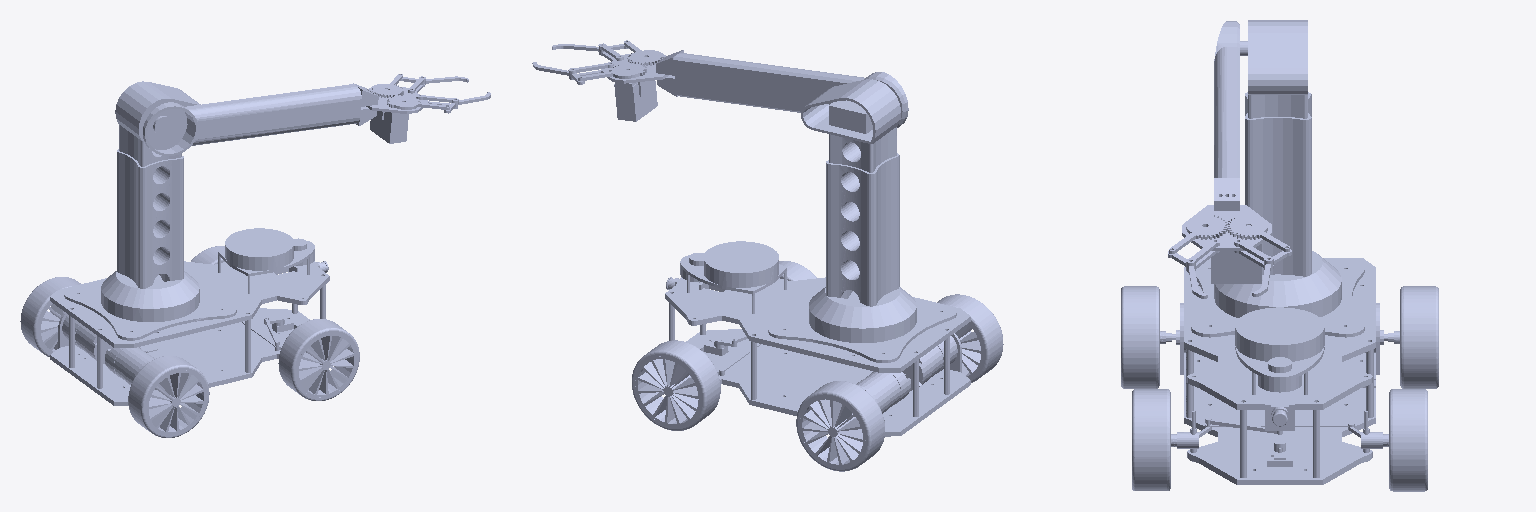
The robot description file, URDF, robot "robot_ros_gk":
<?xml version="1.0" encoding="utf-8"?>
<!-- This URDF was automatically created by SolidWorks to URDF Exporter! Originally created by [author] ([email redacted]) 
     Commit Version: 1.6.0-4-g7f85cfe  Build Version: 1.6.7995.38578
     For more information, please see http://wiki.ros.org/sw_urdf_exporter -->
<robot
  name="robot_ros_gk">
  <link
    name="base_link">
    <inertial>
      <origin
        xyz="-0.0227970405907787 -3.02623057399989E-05 0.0259881435598489"
        rpy="0 0 0" />
      <mass
        value="0.527327964410731" />
      <inertia
        ixx="0.000640688576324311"
        ixy="-4.60231415528497E-08"
        ixz="-1.60591832275139E-07"
        iyy="0.00200912911881809"
        iyz="7.77293736242602E-11"
        izz="0.00261331056586891" />
    </inertial>
    <visual>
      <origin
        xyz="0 0 0"
        rpy="0 0 0" />
      <geometry>
        <mesh
          filename="package://robot_ros_gk/meshes/base_link.STL" />
      </geometry>
      <material
        name="">
        <color
          rgba="0.792156862745098 0.819607843137255 0.933333333333333 1" />
      </material>
    </visual>
    <collision>
      <origin
        xyz="0 0 0"
        rpy="0 0 0" />
      <geometry>
        <mesh
          filename="package://robot_ros_gk/meshes/base_link.STL" />
      </geometry>
    </collision>
  </link>
  <link
    name="banhtraisau_link">
    <inertial>
      <origin
        xyz="1.38777878078145E-17 1.38777878078145E-17 0.0150833895939276"
        rpy="0 0 0" />
      <mass
        value="0.0734919260346546" />
      <inertia
        ixx="4.45273895329904E-05"
        ixy="5.76639827095674E-21"
        ixz="1.61121036314707E-20"
        iyy="4.45273895329904E-05"
        iyz="3.43059938073875E-21"
        izz="7.80097515170451E-05" />
    </inertial>
    <visual>
      <origin
        xyz="0 0 0"
        rpy="0 0 0" />
      <geometry>
        <mesh
          filename="package://robot_ros_gk/meshes/banhtraisau_link.STL" />
      </geometry>
      <material
        name="">
        <color
          rgba="0.792156862745098 0.819607843137255 0.933333333333333 1" />
      </material>
    </visual>
    <collision>
      <origin
        xyz="0 0 0"
        rpy="0 0 0" />
      <geometry>
        <mesh
          filename="package://robot_ros_gk/meshes/banhtraisau_link.STL" />
      </geometry>
    </collision>
  </link>
  <joint
    name="banhtraisau_link_joint"
    type="continuous">
    <origin
      xyz="-0.08596 0.1241 0.014318"
      rpy="1.5708 0 0" />
    <parent
      link="base_link" />
    <child
      link="banhtraisau_link" />
    <axis
      xyz="0 0 1" />
  </joint>
  <link
    name="banhphaisau_link">
    <inertial>
      <origin
        xyz="1.38777878078145E-17 -1.38777878078145E-17 -0.0150833895939276"
        rpy="0 0 0" />
      <mass
        value="0.0734919260346546" />
      <inertia
        ixx="4.45273895329903E-05"
        ixy="-1.33362734134229E-20"
        ixz="1.04212162915766E-20"
        iyy="4.45273895329904E-05"
        iyz="-7.11013338701993E-22"
        izz="7.8009751517045E-05" />
    </inertial>
    <visual>
      <origin
        xyz="0 0 0"
        rpy="0 0 0" />
      <geometry>
        <mesh
          filename="package://robot_ros_gk/meshes/banhphaisau_link.STL" />
      </geometry>
      <material
        name="">
        <color
          rgba="0.792156862745098 0.819607843137255 0.933333333333333 1" />
      </material>
    </visual>
    <collision>
      <origin
        xyz="0 0 0"
        rpy="0 0 0" />
      <geometry>
        <mesh
          filename="package://robot_ros_gk/meshes/banhphaisau_link.STL" />
      </geometry>
    </collision>
  </link>
  <joint
    name="banhphaisau_link_joint"
    type="continuous">
    <origin
      xyz="-0.08596 -0.1241 0.014318"
      rpy="1.5708 0 0" />
    <parent
      link="base_link" />
    <child
      link="banhphaisau_link" />
    <axis
      xyz="0 0 1" />
  </joint>
  <link
    name="trutaymay_link">
    <inertial>
      <origin
        xyz="7.57972447307242E-09 5.14611103730189E-09 -0.0278680936480781"
        rpy="0 0 0" />
      <mass
        value="0.282569490408897" />
      <inertia
        ixx="0.000394975772567928"
        ixy="-1.63534932283893E-06"
        ixz="3.20993633314502E-11"
        iyy="0.000394975542110068"
        iyz="-3.81562874929635E-11"
        izz="0.000391214759288688" />
    </inertial>
    <visual>
      <origin
        xyz="0 0 0"
        rpy="0 0 0" />
      <geometry>
        <mesh
          filename="package://robot_ros_gk/meshes/trutaymay_link.STL" />
      </geometry>
      <material
        name="">
        <color
          rgba="0.792156862745098 0.819607843137255 0.933333333333333 1" />
      </material>
    </visual>
    <collision>
      <origin
        xyz="0 0 0"
        rpy="0 0 0" />
      <geometry>
        <mesh
          filename="package://robot_ros_gk/meshes/trutaymay_link.STL" />
      </geometry>
    </collision>
  </link>
  <joint
    name="trutaymay_link_joint"
    type="fixed">
    <origin
      xyz="-0.045427 -0.0015382 0.068"
      rpy="3.1416 0 0.7854" />
    <parent
      link="base_link" />
    <child
      link="trutaymay_link" />
    <axis
      xyz="0 0 0" />
    <limit
      lower="0"
      upper="0"
      effort="0"
      velocity="0" />
  </joint>
  <link
    name="khau1_link">
    <inertial>
      <origin
        xyz="0.00156774198874927 -0.000652656929735852 0.126358627057701"
        rpy="0 0 0" />
      <mass
        value="0.267175646223408" />
      <inertia
        ixx="0.000665818869133716"
        ixy="1.05801521895385E-06"
        ixz="-2.36689410975453E-05"
        iyy="0.00068559382971246"
        iyz="1.31058859642379E-05"
        izz="0.000111898705322211" />
    </inertial>
    <visual>
      <origin
        xyz="0 0 0"
        rpy="0 0 0" />
      <geometry>
        <mesh
          filename="package://robot_ros_gk/meshes/khau1_link.STL" />
      </geometry>
      <material
        name="">
        <color
          rgba="0.792156862745098 0.819607843137255 0.933333333333333 1" />
      </material>
    </visual>
    <collision>
      <origin
        xyz="0 0 0"
        rpy="0 0 0" />
      <geometry>
        <mesh
          filename="package://robot_ros_gk/meshes/khau1_link.STL" />
      </geometry>
    </collision>
  </link>
  <joint
    name="khau1_link_joint"
    type="prismatic">
    <origin
      xyz="0 0 -0.015"
      rpy="3.1416 0 0.7854" />
    <parent
      link="trutaymay_link" />
    <child
      link="khau1_link" />
    <axis
      xyz="0 0 1" />
    <limit
      lower="0"
      upper="0.1"
      effort="10"
      velocity="0.1" />
    <gazebo>
      <plugin name="khau1_link_joint" filename="libgazebo_ros_control.so">
        <hardwareInterface>PositionJointInterface</hardwareInterface>
      </plugin>
    </gazebo>
  </joint>
  <link
    name="khau2_link">
    <inertial>
      <origin
        xyz="0.125697400600578 -0.0166558129943211 0.00633232655346834"
        rpy="0 0 0" />
      <mass
        value="0.166914032024925" />
      <inertia
        ixx="3.43056435973208E-05"
        ixy="7.21819142546534E-05"
        ixz="-6.98728190196815E-06"
        iyy="0.000725610322678349"
        iyz="7.13435007449521E-07"
        izz="0.000749188447559246" />
    </inertial>
    <visual>
      <origin
        xyz="0 0 0"
        rpy="0 0 0" />
      <geometry>
        <mesh
          filename="package://robot_ros_gk/meshes/khau2_link.STL" />
      </geometry>
      <material
        name="">
        <color
          rgba="0.792156862745098 0.819607843137255 0.933333333333333 1" />
      </material>
    </visual>
    <collision>
      <origin
        xyz="0 0 0"
        rpy="0 0 0" />
      <geometry>
        <mesh
          filename="package://robot_ros_gk/meshes/khau2_link.STL" />
      </geometry>
    </collision>
  </link>
  <joint
    name="khau2_link_joint"
    type="revolute">
    <origin
      xyz="-0.005723 -0.032713 0.19696"
      rpy="1.5708 0 0" />
    <parent
      link="khau1_link" />
    <child
      link="khau2_link" />
    <axis
      xyz="0 0 1" />
    <limit
      lower="-0.3"
      upper="1.57"
      effort="1"
      velocity="1" />
  </joint>
  <link
    name="daukep_link">
    <inertial>
      <origin
        xyz="0.0340616552225212 0.00458895459813079 -0.0171361525435593"
        rpy="0 0 0" />
      <mass
        value="0.0519542946238163" />
      <inertia
        ixx="1.19029924768056E-05"
        ixy="1.10583011267502E-08"
        ixz="1.583639514617E-07"
        iyy="9.86862871341646E-06"
        iyz="-1.44094512956148E-07"
        izz="1.39559671006325E-05" />
    </inertial>
    <visual>
      <origin
        xyz="0 0 0"
        rpy="0 0 0" />
      <geometry>
        <mesh
          filename="package://robot_ros_gk/meshes/daukep_link.STL" />
      </geometry>
      <material
        name="">
        <color
          rgba="0.792156862745098 0.819607843137255 0.933333333333333 1" />
      </material>
    </visual>
    <collision>
      <origin
        xyz="0 0 0"
        rpy="0 0 0" />
      <geometry>
        <mesh
          filename="package://robot_ros_gk/meshes/daukep_link.STL" />
      </geometry>
    </collision>
  </link>
  <joint
    name="daukep_link_joint"
    type="fixed">
    <origin
      xyz="0.23795 -0.028269 0.007"
      rpy="-1.5708 0 0" />
    <parent
      link="khau2_link" />
    <child
      link="daukep_link" />
    <axis
      xyz="0 0 0" />
  </joint>
  <link
    name="camera_link">
    <inertial>
      <origin
        xyz="-0.00939274698668374 0 -0.00106137342194758"
        rpy="0 0 0" />
      <mass
        value="0.00236745140592382" />
      <inertia
        ixx="9.79074901358523E-08"
        ixy="-3.66717599804701E-24"
        ixz="-1.28332500092104E-08"
        iyy="1.02150611612328E-07"
        iyz="-9.11444668144134E-24"
        izz="9.28820151783273E-08" />
    </inertial>
    <visual>
      <origin
        xyz="0 0 0"
        rpy="0 0 0" />
      <geometry>
        <mesh
          filename="package://robot_ros_gk/meshes/camera_link.STL" />
      </geometry>
      <material
        name="">
        <color
          rgba="0.792156862745098 0.819607843137255 0.933333333333333 1" />
      </material>
    </visual>
    <collision>
      <origin
        xyz="0 0 0"
        rpy="0 0 0" />
      <geometry>
        <mesh
          filename="package://robot_ros_gk/meshes/camera_link.STL" />
      </geometry>
    </collision>
  </link>
  <joint
    name="camera_link_joint"
    type="fixed">
    <origin
      xyz="0.16071 0 0.05825"
      rpy="0 0 0" />
    <parent
      link="base_link" />
    <child
      link="camera_link" />
    <axis
      xyz="0 0 0" />
  </joint>
  <link
    name="lidar_link">
    <inertial>
      <origin
        xyz="0.00759150060436392 -6.93889390390723E-18 -0.0111854943900236"
        rpy="0 0 0" />
      <mass
        value="0.0858350837785103" />
      <inertia
        ixx="2.80446897872303E-05"
        ixy="-1.15533925047628E-21"
        ixz="6.07178023049773E-06"
        iyy="5.22834636955613E-05"
        iyz="-1.26107264399989E-21"
        izz="7.24236756299104E-05" />
    </inertial>
    <visual>
      <origin
        xyz="0 0 0"
        rpy="0 0 0" />
      <geometry>
        <mesh
          filename="package://robot_ros_gk/meshes/lidar_link.STL" />
      </geometry>
      <material
        name="">
        <color
          rgba="0.792156862745098 0.819607843137255 0.933333333333333 1" />
      </material>
    </visual>
    <collision>
      <origin
        xyz="0 0 0"
        rpy="0 0 0" />
      <geometry>
        <mesh
          filename="package://robot_ros_gk/meshes/lidar_link.STL" />
      </geometry>
    </collision>
  </link>
  <joint
    name="lidar_link_joint"
    type="fixed">
    <origin
      xyz="0.083214 0 0.103"
      rpy="0 0 0" />
    <parent
      link="base_link" />
    <child
      link="lidar_link" />
    <axis
      xyz="0 0 0" />
  </joint>
  <link
    name="gps_link">
    <inertial>
      <origin
        xyz="6.93889390390723E-18 0.000460852401486874 -0.000489732307491202"
        rpy="0 0 0" />
      <mass
        value="0.00152770883565398" />
      <inertia
        ixx="3.91271661137632E-07"
        ixy="-1.29673830620739E-23"
        ixz="1.19120609239483E-24"
        iyy="9.54941870527927E-08"
        iyz="-1.32479464099464E-10"
        izz="4.86477086328905E-07" />
    </inertial>
    <visual>
      <origin
        xyz="0 0 0"
        rpy="0 0 0" />
      <geometry>
        <mesh
          filename="package://robot_ros_gk/meshes/gps_link.STL" />
      </geometry>
      <material
        name="">
        <color
          rgba="0.792156862745098 0.819607843137255 0.933333333333333 1" />
      </material>
    </visual>
    <collision>
      <origin
        xyz="0 0 0"
        rpy="0 0 0" />
      <geometry>
        <mesh
          filename="package://robot_ros_gk/meshes/gps_link.STL" />
      </geometry>
    </collision>
  </link>
  <joint
    name="gps_link_joint"
    type="fixed">
    <origin
      xyz="-0.038051 0.047135 0.001"
      rpy="0 0 0" />
    <parent
      link="base_link" />
    <child
      link="gps_link" />
    <axis
      xyz="0 0 0" />
  </joint>
  <link
    name="banhtraitruoc_link">
    <inertial>
      <origin
        xyz="1.31221201057907E-06 4.04190569902596E-15 0.0150833895369077"
        rpy="0 0 0" />
      <mass
        value="0.0734919260346545" />
      <inertia
        ixx="4.45273897864017E-05"
        ixy="2.44745835009237E-21"
        ixz="2.91287022841161E-09"
        iyy="4.45273895329903E-05"
        iyz="-3.2367085576799E-21"
        izz="7.80097512636335E-05" />
    </inertial>
    <visual>
      <origin
        xyz="0 0 0"
        rpy="0 0 0" />
      <geometry>
        <mesh
          filename="package://robot_ros_gk/meshes/banhtraitruoc_link.STL" />
      </geometry>
      <material
        name="">
        <color
          rgba="0.792156862745098 0.819607843137255 0.933333333333333 1" />
      </material>
    </visual>
    <collision>
      <origin
        xyz="0 0 0"
        rpy="0 0 0" />
      <geometry>
        <mesh
          filename="package://robot_ros_gk/meshes/banhtraitruoc_link.STL" />
      </geometry>
    </collision>
  </link>
  <joint
    name="banhtraitruoc_link_joint"
    type="continuous">
    <origin
      xyz="0.094693 0.1155 0.01"
      rpy="1.5708 0 0" />
    <parent
      link="base_link" />
    <child
      link="banhtraitruoc_link" />
    <axis
      xyz="0 0 1" />
  </joint>
  <link
    name="banhphaitruoc_link">
    <inertial>
      <origin
        xyz="-6.68215482946266E-14 3.34801630863524E-15 -0.0150833895938771"
        rpy="0 0 0" />
      <mass
        value="0.0734919260346547" />
      <inertia
        ixx="4.45273895329904E-05"
        ixy="-4.08379281106138E-21"
        ixz="-1.09394636010138E-21"
        iyy="4.45273895329904E-05"
        iyz="1.5902140883326E-22"
        izz="7.80097515170452E-05" />
    </inertial>
    <visual>
      <origin
        xyz="0 0 0"
        rpy="0 0 0" />
      <geometry>
        <mesh
          filename="package://robot_ros_gk/meshes/banhphaitruoc_link.STL" />
      </geometry>
      <material
        name="">
        <color
          rgba="0.792156862745098 0.819607843137255 0.933333333333333 1" />
      </material>
    </visual>
    <collision>
      <origin
        xyz="0 0 0"
        rpy="0 0 0" />
      <geometry>
        <mesh
          filename="package://robot_ros_gk/meshes/banhphaitruoc_link.STL" />
      </geometry>
    </collision>
  </link>
  <joint
    name="banhphaitruoc_link_joint"
    type="continuous">
    <origin
      xyz="0.094693 -0.1155 0.01"
      rpy="1.5708 0 -8.6997E-05" />
    <parent
      link="base_link" />
    <child
      link="banhphaitruoc_link" />
    <axis
      xyz="8.6997E-05 0 1" />
  </joint>


  <!-- dieukhienxedichuyen -->
  <gazebo>
    <plugin name="differential_drive_controller" filename="libgazebo_ros_diff_drive.so">
      <updateRate>10</updateRate>
      <leftJoint>banhtraisau_link_joint</leftJoint>
      <rightJoint>banhphaisau_link_joint</rightJoint>
      <wheelSeparation>0.5380</wheelSeparation>
      <wheelDiameter>0.2410</wheelDiameter>
      <wheelAcceleration>1.0</wheelAcceleration>
      <wheelTorque>20</wheelTorque>
      <commandTopic>cmd_vel</commandTopic>
      <odometryTopic>odom</odometryTopic>
      <odometryFrame>odom</odometryFrame>
      <robotBaseFrame>base_link</robotBaseFrame>
      <odometrySource>1</odometrySource>
      <publishWheelTF>true</publishWheelTF>
      <publishOdom>true</publishOdom>
      <publishWheelJointState>true</publishWheelJointState>
      <publishTf>true</publishTf>
      <legacyMode>false</legacyMode>
      <rosDebugLevel>na</rosDebugLevel>
    </plugin>
  </gazebo>

  <gazebo>
    <plugin name="differential_drive_controller" filename="libgazebo_ros_diff_drive.so">
      <updateRate>10</updateRate>
      <leftJoint>banhtraitruoc_link_joint</leftJoint>
      <rightJoint>banhphaitruoc_link_joint</rightJoint>
      <wheelSeparation>0.5380</wheelSeparation>
      <wheelDiameter>0.2410</wheelDiameter>
      <wheelAcceleration>1.0</wheelAcceleration>
      <wheelTorque>20</wheelTorque>
      <commandTopic>cmd_vel</commandTopic>
      <odometryTopic>odom</odometryTopic>
      <odometryFrame>odom</odometryFrame>
      <robotBaseFrame>base_link</robotBaseFrame>
      <odometrySource>1</odometrySource>
      <publishWheelTF>true</publishWheelTF>
      <publishOdom>true</publishOdom>
      <publishWheelJointState>true</publishWheelJointState>
      <publishTf>true</publishTf>
      <legacyMode>false</legacyMode>
      <rosDebugLevel>na</rosDebugLevel>
    </plugin>
  </gazebo>


  <!-- camera -->
  <gazebo reference="camera_link">
    <sensor type="camera" name="camera1">
      <update_rate>30.0</update_rate>
      <camera name="head">
        <horizontal_fov>1.3962634</horizontal_fov>
        <image>
          <width>800</width>
          <height>800</height>
          <format>R8G8B8</format>
        </image>
        <clip>
          <near>0.02</near>
          <far>300</far>
        </clip>
        <noise>
          <type>gaussian</type>
          <mean>0.0</mean>
          <stddev>0.007</stddev>
        </noise>
      </camera>
      <plugin name="camera_controller" filename="libgazebo_ros_camera.so">
        <alwaysOn>true</alwaysOn>
        <updateRate>0.0</updateRate>
        <cameraName>rrbot/camera1</cameraName>
        <imageTopicName>image_raw</imageTopicName>
        <cameraInfoTopicName>camera_info</cameraInfoTopicName>
        <frameName>camera_link</frameName>
        <hackBaseline>0.07</hackBaseline>
        <distortionK1>0.0</distortionK1>
        <distortionK2>0.0</distortionK2>
        <distortionK3>0.0</distortionK3>
        <distortionT1>0.0</distortionT1>
        <distortionT2>0.0</distortionT2>
      </plugin>
    </sensor>
  </gazebo>

  <!-- lidar -->
  <gazebo reference="lidar_link">
    <sensor type="ray" name="lidar_sensor">
      <pose>0 0 0 0 0 0</pose>
      <visualize>true</visualize>
      <update_rate>30</update_rate>
      <ray>
        <scan>
          <horizontal>
            <samples>720</samples>
            <resolution>1</resolution>
            <min_angle>-1.5708</min_angle>
            <max_angle>1.5708</max_angle>
          </horizontal>
        </scan>
        <range>
          <min>0.1</min>
          <max>30.0</max>
          <resolution>0.01</resolution>
        </range>
        <noise>
          <type>gaussian</type>
          <mean>0.0</mean>
          <stddev>0.01</stddev>
        </noise>
      </ray>
      <plugin name="gazebo_ros_laser" filename="libgazebo_ros_laser.so">
        <topicName>/scan</topicName>
        <frameName>lidar_link</frameName>
      </plugin>
    </sensor>
  </gazebo>

  <!-- gps -->
  <gazebo>
      <plugin name="gazebo_ros_gps" filename="libhector_gazebo_ros_gps.so">
        <updateRate>4.0</updateRate>
        <bodyName>gps_link</bodyName>
        <frameId>gps_link</frameId>
        <topicName>/gps/fix</topicName>
        <velocityTopicName>/gps/fix_velocity</velocityTopicName>
        <referenceLatitude>-30.06022459407145675</referenceLatitude>
        <referenceLongitude>-51.173913575780311191</referenceLongitude>
        <referenceHeading>90</referenceHeading>
        <referenceAltitude>10</referenceAltitude>
        <offset>0 0 0</offset>
        <drift>0.001 0.001 0.001</drift>
        <gaussianNoise>0.05 0.05 0.05</gaussianNoise>
        <velocityDrift>0.001 0.001 0.001</velocityDrift>
        <velocityGaussianNoise>0.5 0.5 0.5</velocityGaussianNoise>
      </plugin>
  </gazebo>


  <!-- plugin control -->
  <gazebo>
    <plugin name="gazebo_ros_control" filename="libgazebo_ros_control.so"/>
  </gazebo>

  <!-- Transmission cho tay may -->
  <transmission name="khau1_trans">
    <type>transmission_interface/SimpleTransmission</type>
    <joint name="khau1_link_joint">
      <hardwareInterface>hardware_interface/PositionJointInterface</hardwareInterface>
    </joint>
    <actuator name="motor_khau1">
      <mechanicalReduction>1</mechanicalReduction>
    </actuator>
  </transmission>

  <transmission name="khau2_trans">
    <type>transmission_interface/SimpleTransmission</type>
    <joint name="khau2_link_joint">
      <hardwareInterface>EffortJointInterface</hardwareInterface>
    </joint>
    <actuator name="motor_khau2">
      <hardwareInterface>EffortJointInterface</hardwareInterface>
      <mechanicalReduction>1</mechanicalReduction>
    </actuator>
  </transmission>


</robot>

--- Render facts (derived) ---
Views: 3 orthographic renders of the robot side by side, from view 1: azimuth 30°, elevation 25°; view 2: azimuth 150°, elevation 25°; view 3: azimuth 270°, elevation 25°.
Robot: robot_ros_gk — 12 links, 11 joints (1 revolute, 4 continuous, 1 prismatic, 5 fixed); root link base_link; default pose: all joints at 0.
Visible links, largest first — view 1: base_link, trutaymay_link, khau2_link, banhphaisau_link, banhphaitruoc_link, khau1_link, lidar_link, daukep_link, banhtraisau_link; view 2: base_link, trutaymay_link, khau2_link, khau1_link, banhtraisau_link, banhtraitruoc_link, daukep_link, lidar_link, banhphaisau_link; view 3: base_link, trutaymay_link, daukep_link, lidar_link, khau1_link, khau2_link, banhtraisau_link, banhphaisau_link, banhtraitruoc_link, banhphaitruoc_link, camera_link.
Link boxes in pixels (bbox=[...]): base_link: bbox=[50, 261, 329, 405]; trutaymay_link: bbox=[64, 149, 236, 340]; khau2_link: bbox=[143, 83, 378, 155]; banhphaisau_link: bbox=[128, 356, 209, 437]; banhphaitruoc_link: bbox=[278, 319, 359, 400]; khau1_link: bbox=[115, 81, 200, 263]; lidar_link: bbox=[218, 228, 314, 293]; daukep_link: bbox=[366, 74, 490, 143]; banhtraisau_link: bbox=[20, 277, 80, 356]; base_link: bbox=[665, 277, 970, 436]; trutaymay_link: bbox=[768, 153, 956, 362]; khau2_link: bbox=[656, 50, 908, 127]; khau1_link: bbox=[801, 79, 900, 278]; banhtraisau_link: bbox=[796, 381, 884, 471]; banhtraitruoc_link: bbox=[632, 340, 720, 430]; daukep_link: bbox=[532, 40, 668, 121]; lidar_link: bbox=[680, 241, 786, 313]; banhphaisau_link: bbox=[937, 294, 1003, 382]; base_link: bbox=[1172, 258, 1387, 484]; trutaymay_link: bbox=[1191, 92, 1364, 337]; daukep_link: bbox=[1168, 205, 1291, 298]; lidar_link: bbox=[1235, 307, 1324, 394]; khau1_link: bbox=[1240, 20, 1307, 118]; khau2_link: bbox=[1214, 21, 1239, 210]; banhtraisau_link: bbox=[1388, 286, 1438, 388]; banhphaisau_link: bbox=[1121, 286, 1171, 388]; banhtraitruoc_link: bbox=[1383, 389, 1427, 491]; banhphaitruoc_link: bbox=[1132, 389, 1176, 490]; camera_link: bbox=[1265, 404, 1294, 430].
Size in the robot's own frame: 0.4453 by 0.2482 by 0.3336 metres.
12 mesh visuals loaded from 12 distinct referenced files (12 binary STL).
